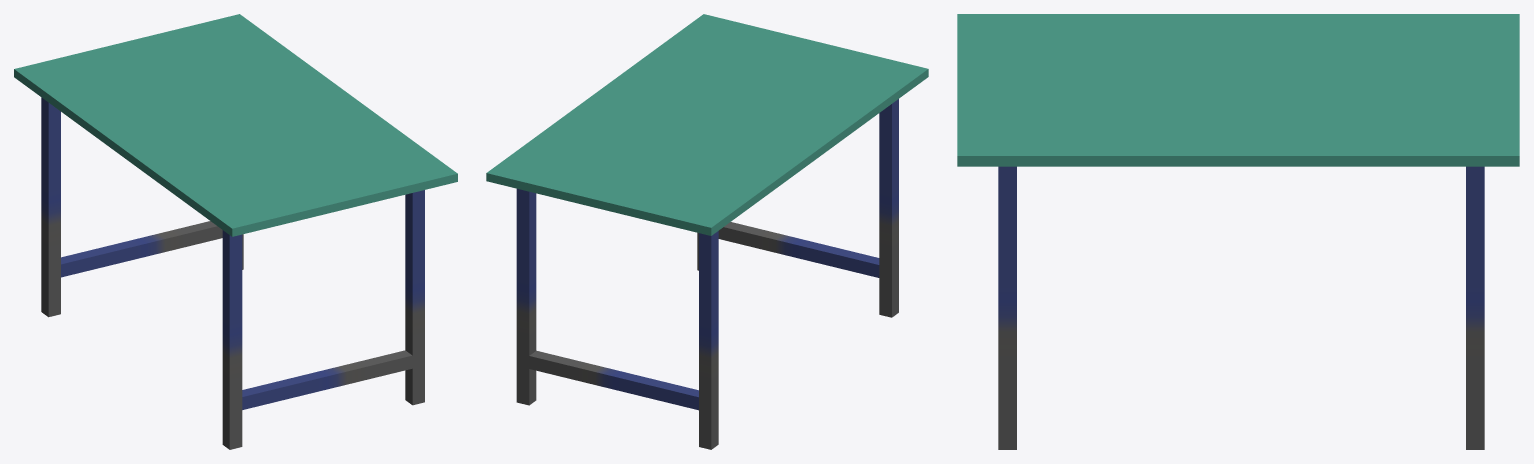
File: Kitchen_Table.fbx
3 renders of one model, left to right at view 1: azimuth 30°, elevation 25°; view 2: azimuth 150°, elevation 25°; view 3: azimuth 270°, elevation 25°, orthographic. The views are drawn at different scales.
Visible parts, largest first — view 1: Kitchen_Table; view 2: Kitchen_Table; view 3: Kitchen_Table.
Part boxes in pixels (x1,y1,x2,y2): Kitchen_Table: (14, 14, 457, 449); Kitchen_Table: (486, 14, 928, 449); Kitchen_Table: (957, 14, 1519, 449).
Bounding box in the file's own units: 136 × 136 × 227.
